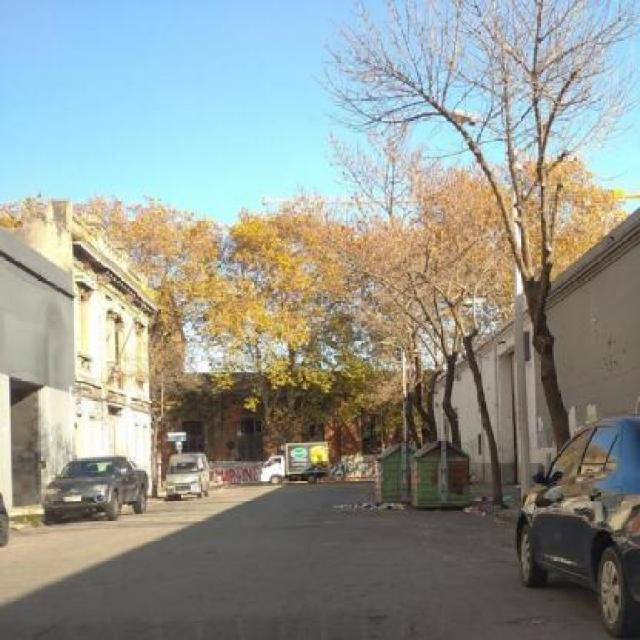garbage: (334, 499, 418, 516), (460, 491, 486, 514)
